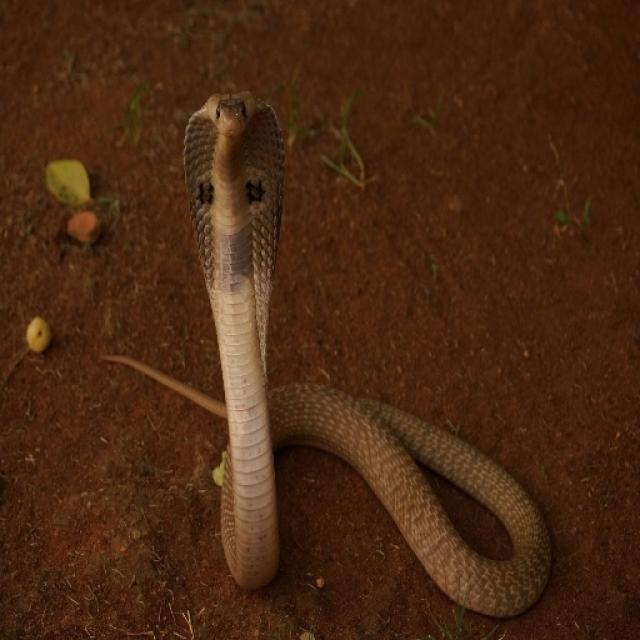snake: (167, 83, 567, 617)
